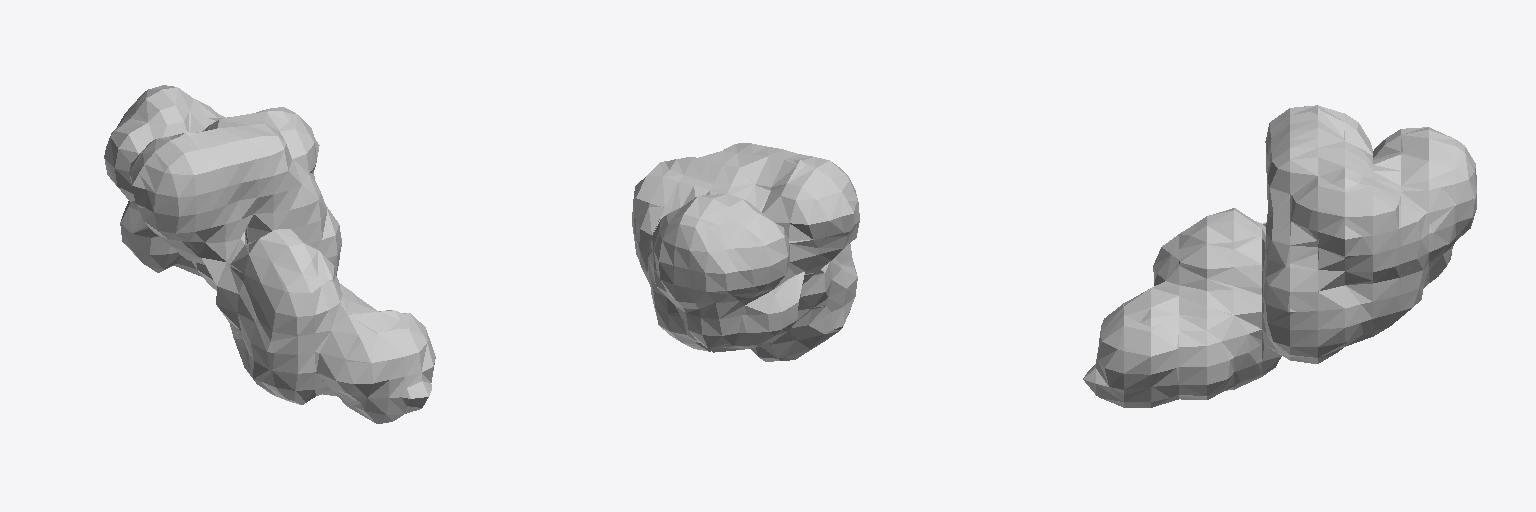
File: 1tau_cms.obj
3 renders of one model, left to right at view 1: azimuth 30°, elevation 25°; view 2: azimuth 150°, elevation 25°; view 3: azimuth 270°, elevation 25°, orthographic.
Bounding box in the file's own units: 80.61 × 90.05 × 131.